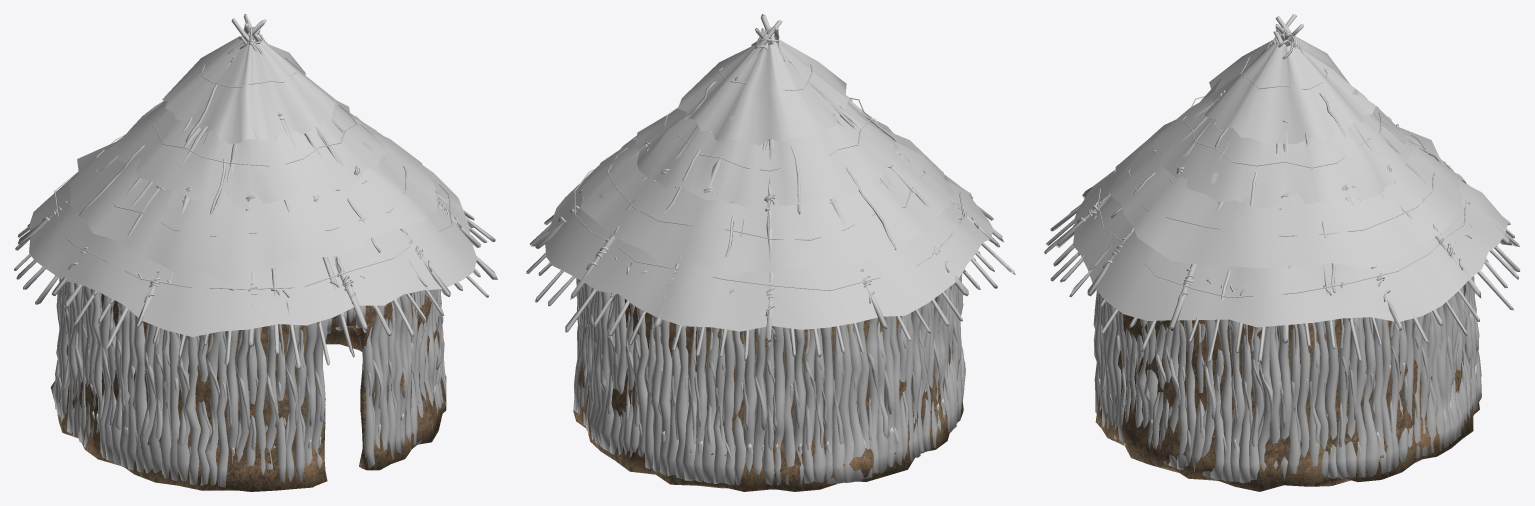
Rendered from midpoly_african_hut_004.obj.
The picture shows the model from 3 angles, left to right: view 1: azimuth 30°, elevation 25°; view 2: azimuth 150°, elevation 25°; view 3: azimuth 270°, elevation 25°; orthographic projection.
Visible parts, largest first — view 1: midpoly_african_hut_004; view 2: midpoly_african_hut_004; view 3: midpoly_african_hut_004.
Boxes of the visible parts, x1=… form: midpoly_african_hut_004: x1=14, y1=14, x2=497, y2=491; midpoly_african_hut_004: x1=526, y1=14, x2=1015, y2=491; midpoly_african_hut_004: x1=1044, y1=14, x2=1520, y2=491.
Bounding box in the file's own units: 3.87 × 3.51 × 3.88.
